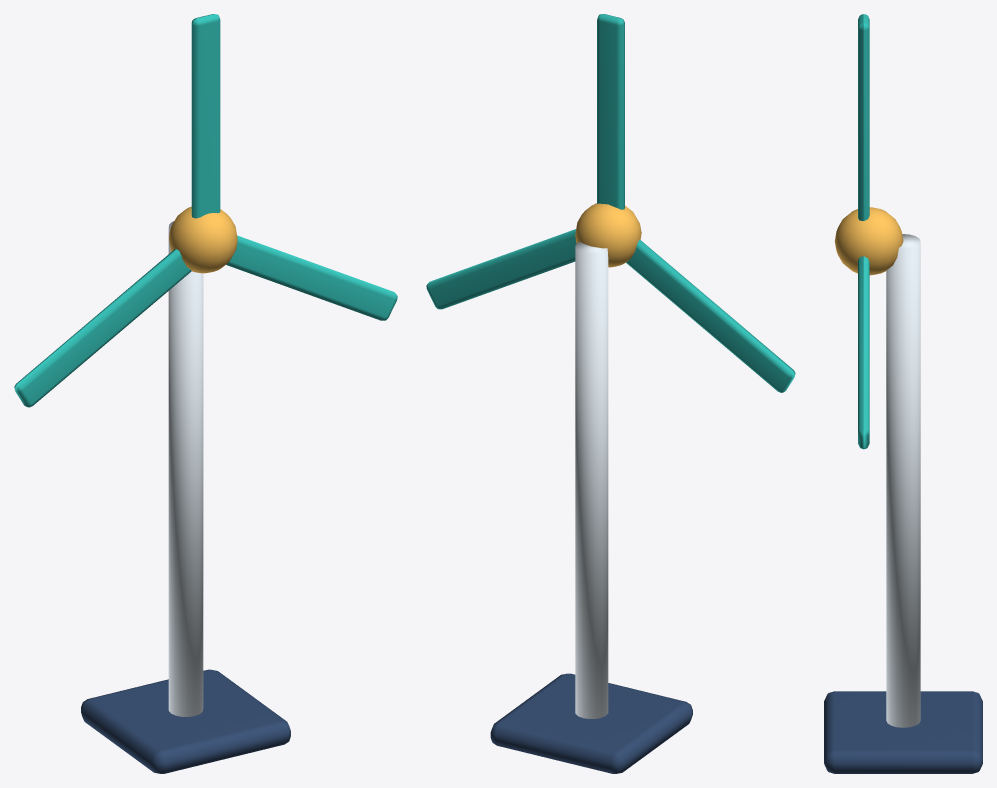
Rendered from wind-turbine-lite.glb.
3 renders of one model, left to right at view 1: azimuth 30°, elevation 25°; view 2: azimuth 150°, elevation 25°; view 3: azimuth 270°, elevation 25°, orthographic. The views are drawn at different scales.
Parts seen in each view (by area): view 1: Mast; view 2: Mast; view 3: Mast.
Boxes of the visible parts, x1,y1,x2,y2 form: Mast: [14, 14, 397, 773]; Mast: [426, 14, 795, 773]; Mast: [824, 14, 982, 773].
Size of the model in its own units: 1.65 by 3.03 by 0.6.
